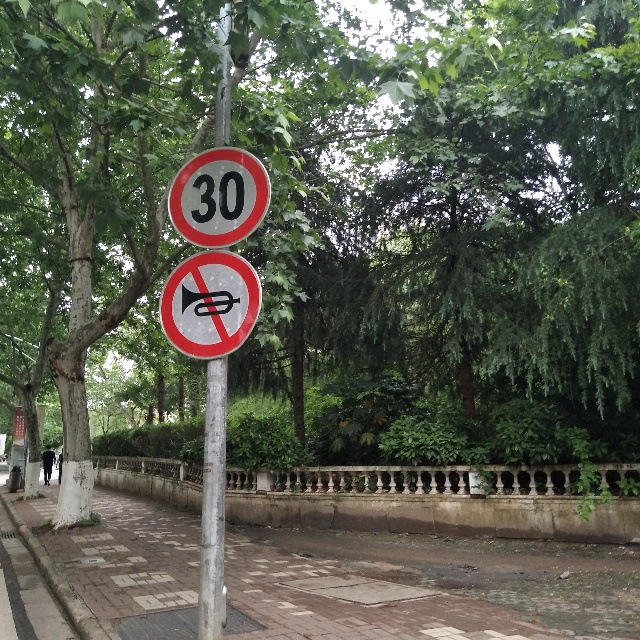nohonk: (172, 258, 255, 347)
